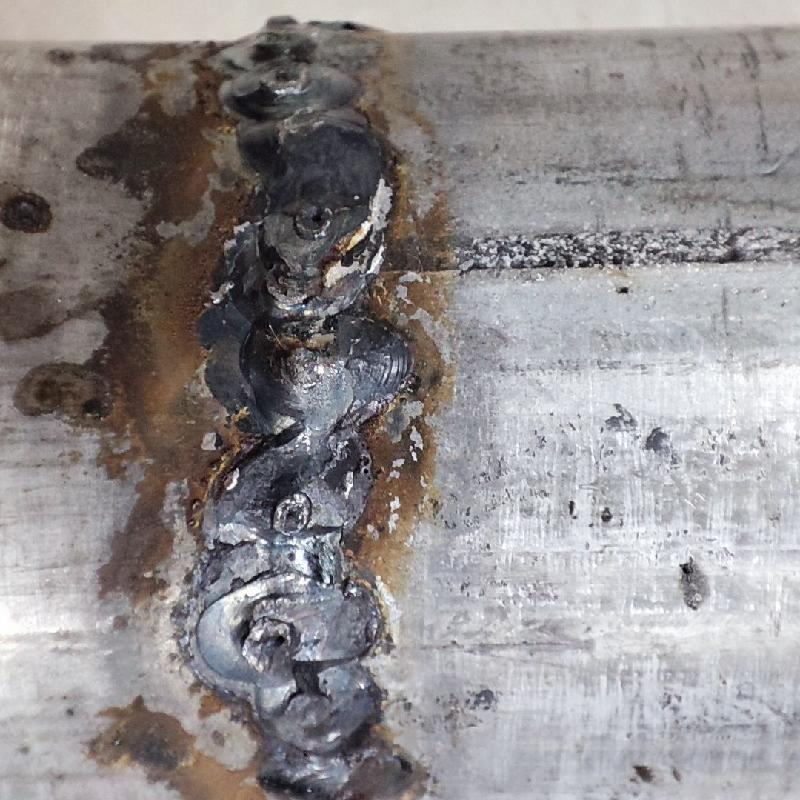Surface_pores: (262, 490, 316, 535), (253, 622, 310, 660), (298, 199, 342, 237), (267, 65, 315, 90)
wrong_size: (206, 10, 414, 794)
